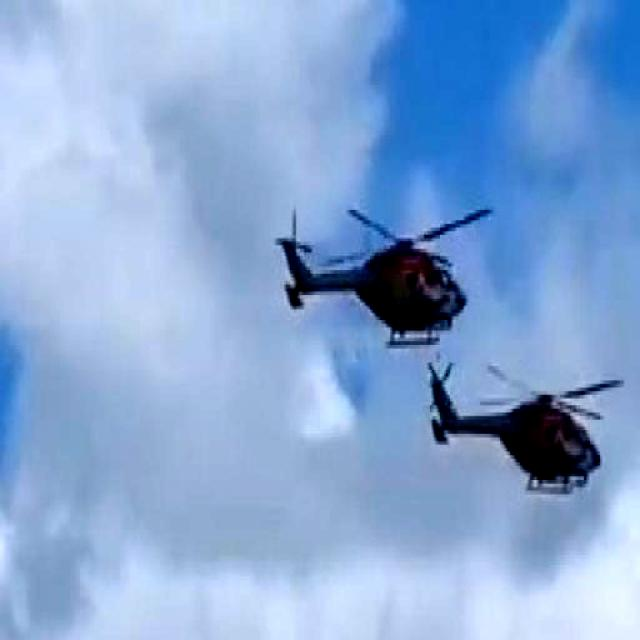drone: (275, 198, 498, 355), (422, 356, 629, 506)
